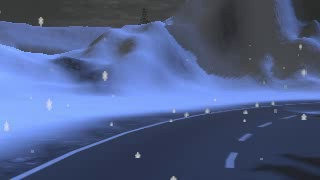Lane: (16, 102, 319, 179)
